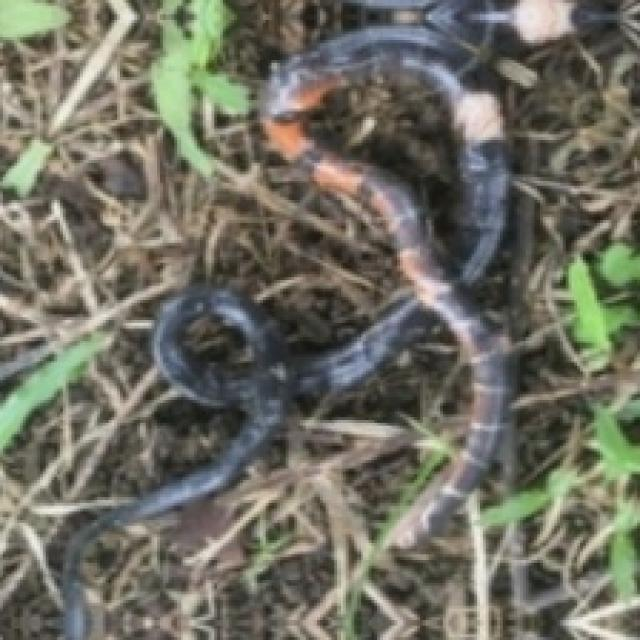barredcoral snake: (64, 0, 613, 640)
